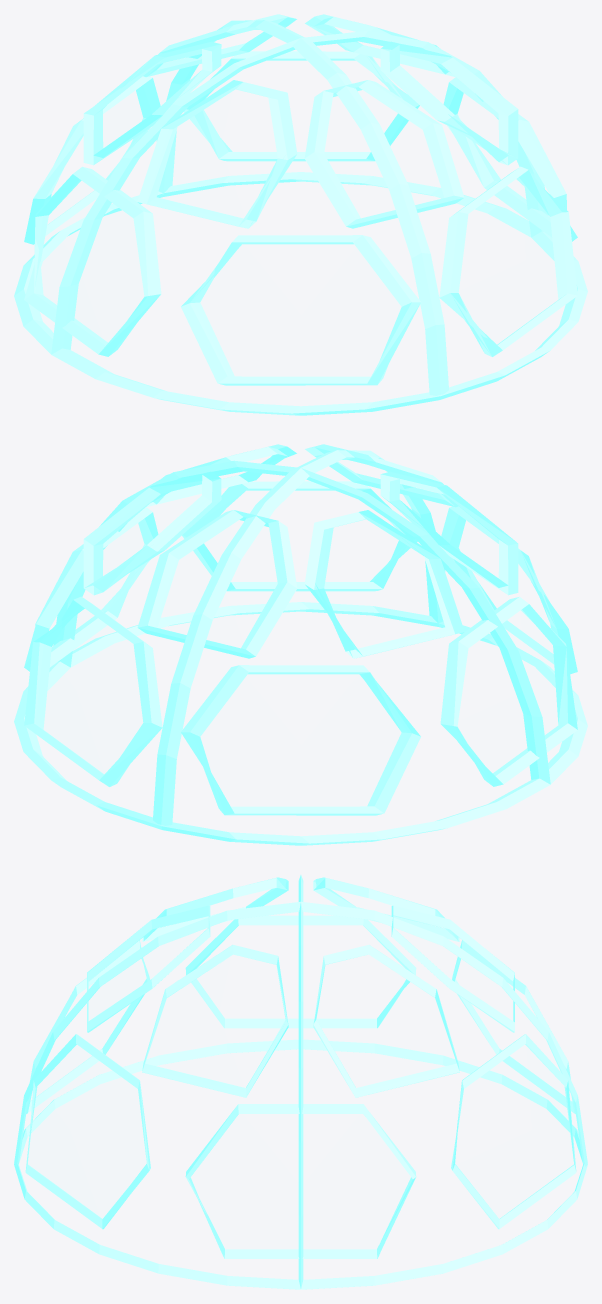
The model's file is shield-near.glb.
3 views of the same model, one above another, from view 1: azimuth 30°, elevation 25°; view 2: azimuth 150°, elevation 25°; view 3: azimuth 270°, elevation 25° (orthographic). The views are drawn at different scales.
Visible parts, largest first — view 1: Continuous solid frames; view 2: Continuous solid frames; view 3: Continuous solid frames.
Boxes of the visible parts, left/top/right/bottom form: Continuous solid frames: left=14, top=14, right=587, bottom=415; Continuous solid frames: left=14, top=444, right=587, bottom=845; Continuous solid frames: left=14, top=875, right=587, bottom=1289.
Bounding box in the file's own units: 2.08 × 1.04 × 2.02.
